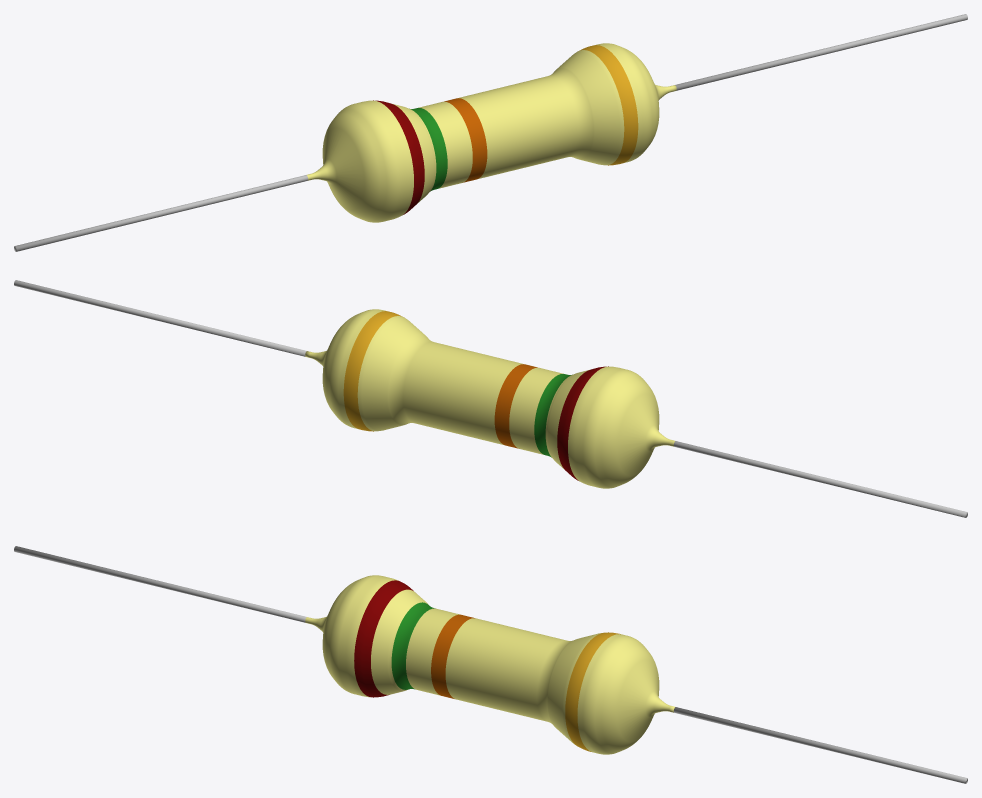
3 renders of one model, top to bottom at view 1: azimuth 30°, elevation 25°; view 2: azimuth 150°, elevation 25°; view 3: azimuth 330°, elevation 25°, orthographic.
Parts seen in each view (by area): view 1: ID71, ID77, ID63, ID89, ID12, ID25, SketchUp, ID55, ID47, ID83, ID39; view 2: ID71, ID77, ID63, ID89, ID12, ID25, SketchUp, ID55, ID47, ID83, ID39; view 3: ID71, ID63, ID77, ID83, ID89, ID47, ID12, ID25, SketchUp, ID39, ID55.
Part boxes in pixels (x1=…): ID71: x1=458, y1=50, x2=624, y2=179; ID77: x1=307, y1=100, x2=413, y2=222; ID63: x1=595, y1=43, x2=676, y2=162; ID89: x1=418, y1=101, x2=472, y2=188; ID12: x1=14, y1=175, x2=308, y2=251; ID25: x1=675, y1=14, x2=967, y2=90; SketchUp: x1=577, y1=45, x2=638, y2=165; ID55: x1=444, y1=98, x2=487, y2=182; ID47: x1=373, y1=100, x2=424, y2=214; ID83: x1=393, y1=104, x2=436, y2=203; ID39: x1=409, y1=108, x2=447, y2=191; ID71: x1=357, y1=316, x2=523, y2=445; ID77: x1=568, y1=366, x2=674, y2=488; ID63: x1=305, y1=309, x2=386, y2=428; ID89: x1=509, y1=367, x2=563, y2=454; ID12: x1=673, y1=441, x2=967, y2=517; ID25: x1=14, y1=280, x2=306, y2=356; SketchUp: x1=343, y1=311, x2=404, y2=431; ID55: x1=494, y1=364, x2=537, y2=448; ID47: x1=557, y1=366, x2=608, y2=480; ID83: x1=545, y1=370, x2=588, y2=469; ID39: x1=534, y1=374, x2=572, y2=457; ID71: x1=445, y1=618, x2=601, y2=744; ID63: x1=577, y1=634, x2=674, y2=754; ID77: x1=305, y1=575, x2=398, y2=697; ID83: x1=371, y1=589, x2=428, y2=694; ID89: x1=406, y1=608, x2=459, y2=695; ID47: x1=354, y1=580, x2=413, y2=697; ID12: x1=14, y1=546, x2=306, y2=622; ID25: x1=673, y1=707, x2=966, y2=783; SketchUp: x1=565, y1=632, x2=620, y2=751; ID39: x1=391, y1=602, x2=435, y2=689; ID55: x1=431, y1=614, x2=474, y2=698.
Bounding box in the file's own units: 711 × 78.74 × 78.74.
